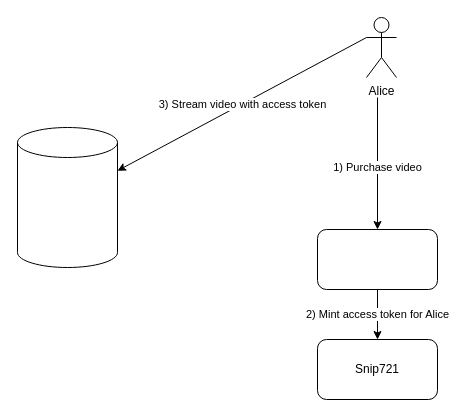
The diagram is 466 pixels wide and 417 high, and some of its shapes have lost their labels. Here are the shapes that lost their labels. From the top down, the box of each, then its label:
(16, 126, 118, 268): Decentralized Storage (IPFS)
(316, 228, 438, 290): Access Manager
